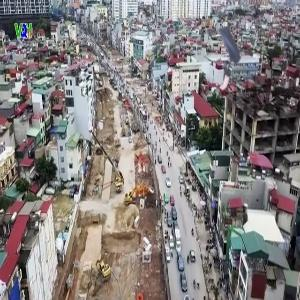drone: (193, 15, 262, 84)
